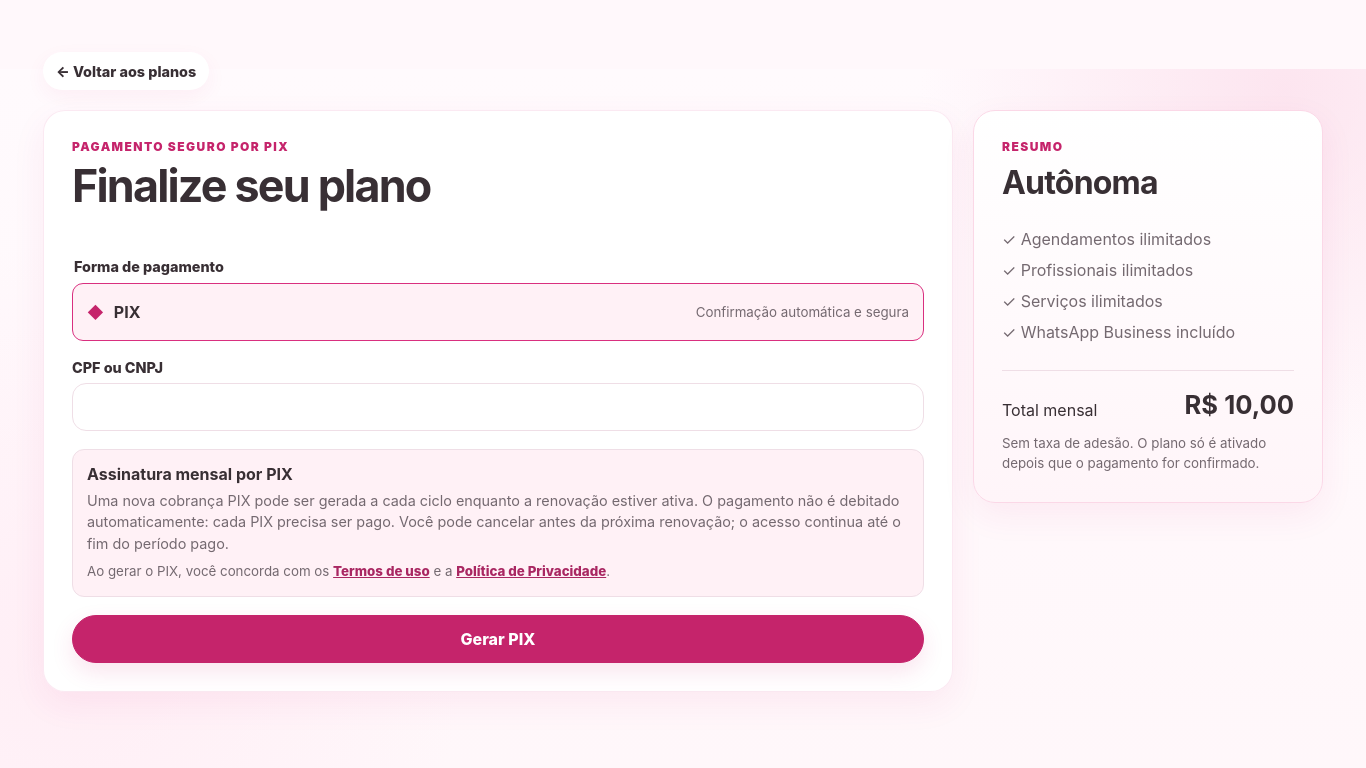
Test: checkout PIX › não anuncia plano ativo enquanto o pagamento confirmado ainda está ativando
expect the heading "Finalize seu plano" is shown: met, box [72,159,430,213]
Type "12345678901" into the field labelled "CPF ou CNPJ". click: (498, 407)
box: [72,383,924,431]
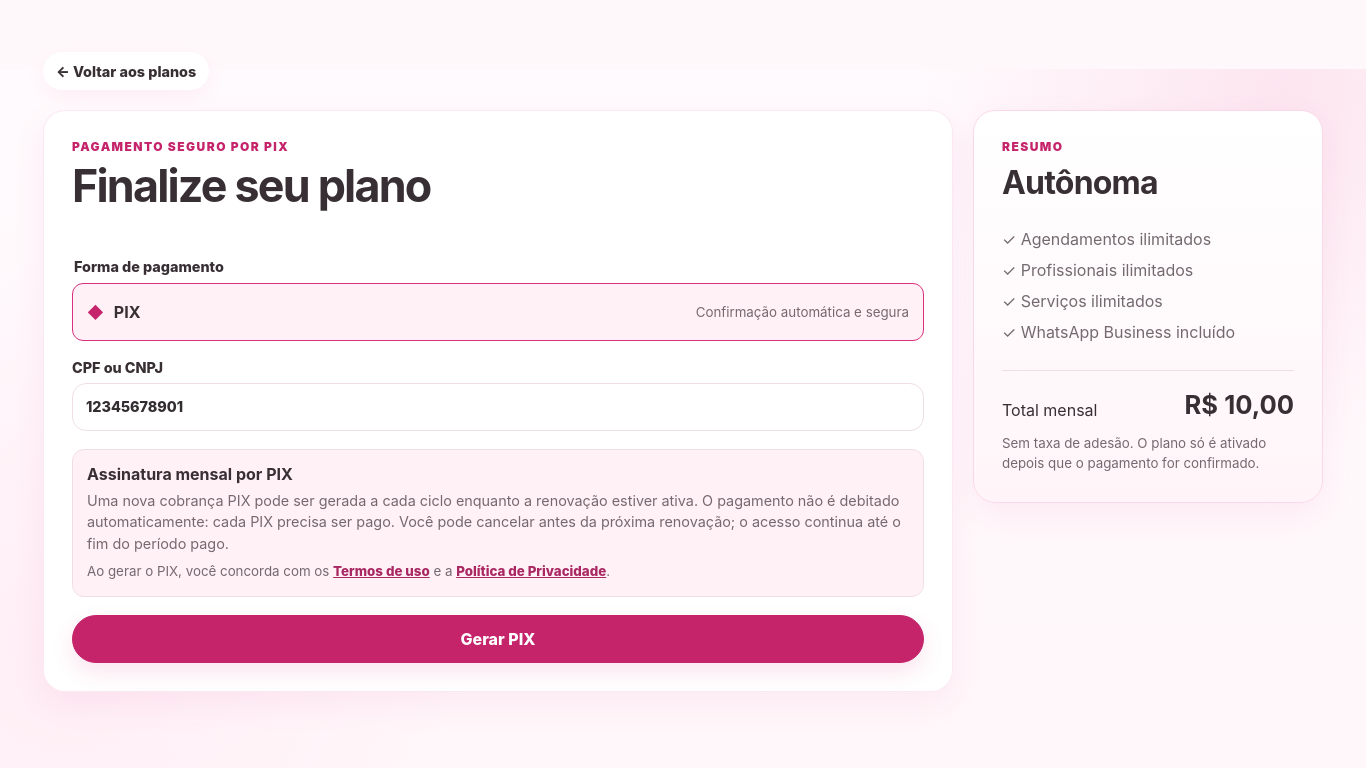
Submit the form named "Gerar PIX", box [43,110,953,692]
Wait 2500 ms
(page scrolled)
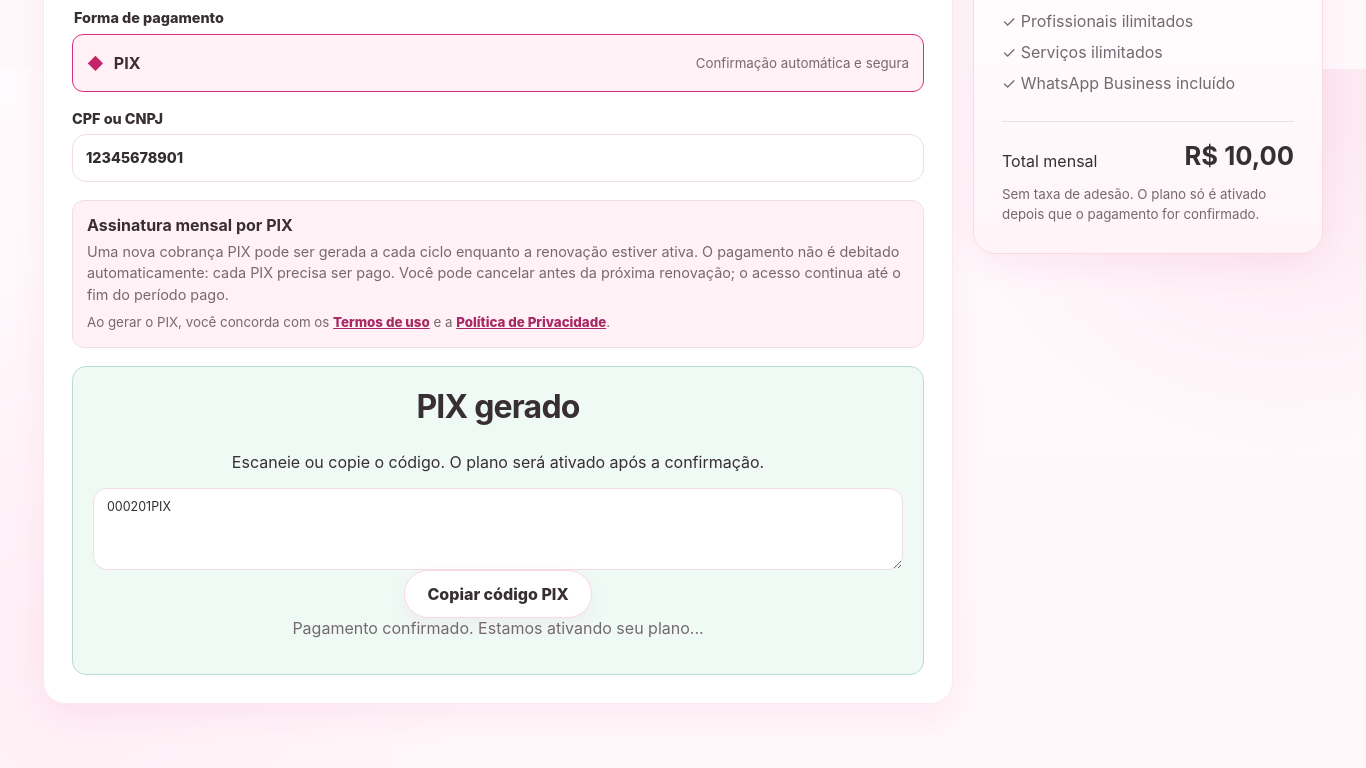
expect the heading "PIX gerado" is shown: met, box [416,387,580,426]
expect the text "Pagamento confirmado. Estamos ativando seu plano..." is shown: met, box [292,618,704,638]
